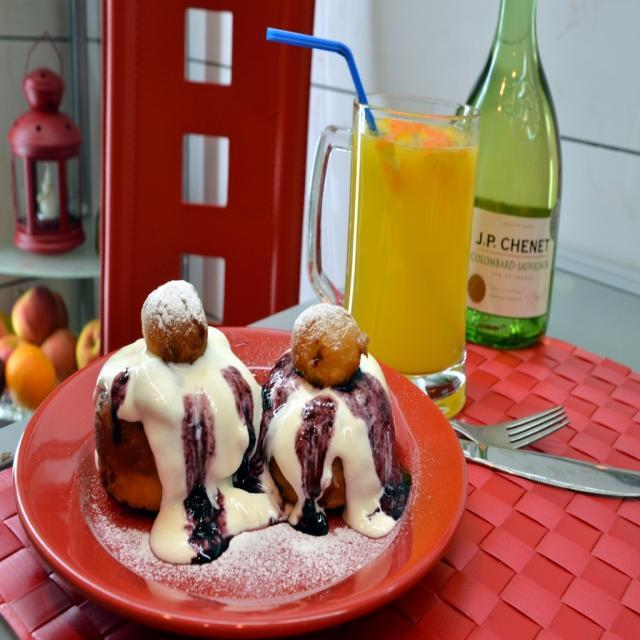Juice: (340, 74, 486, 394)
